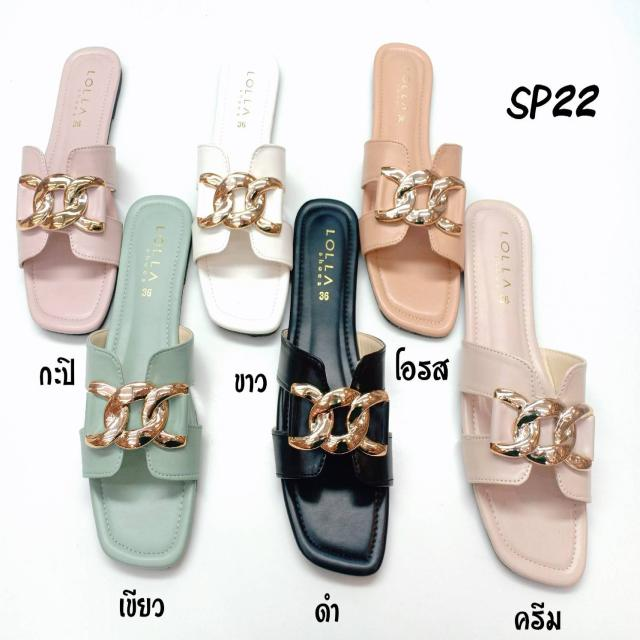black: (281, 202, 389, 577)
cream: (462, 199, 582, 594)
green: (88, 194, 196, 568)
kapi: (25, 46, 119, 328)
orot: (370, 43, 458, 343)
white: (194, 56, 288, 334)
